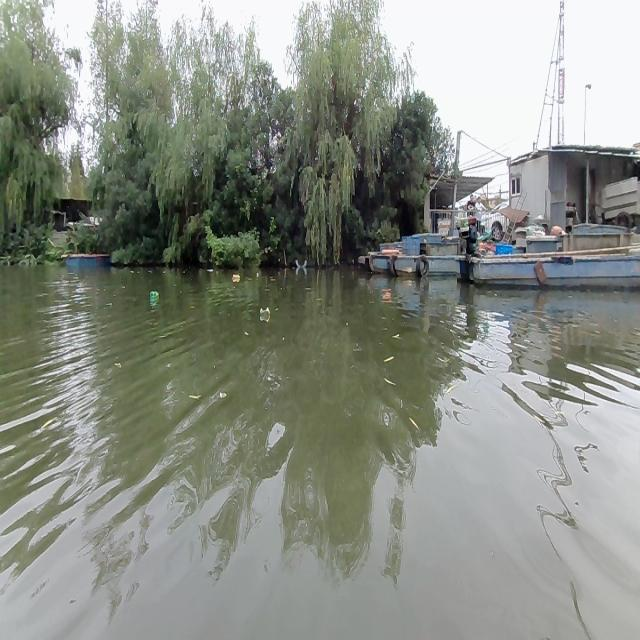bottle: (258, 304, 270, 317), (150, 290, 160, 300), (231, 274, 241, 282)
